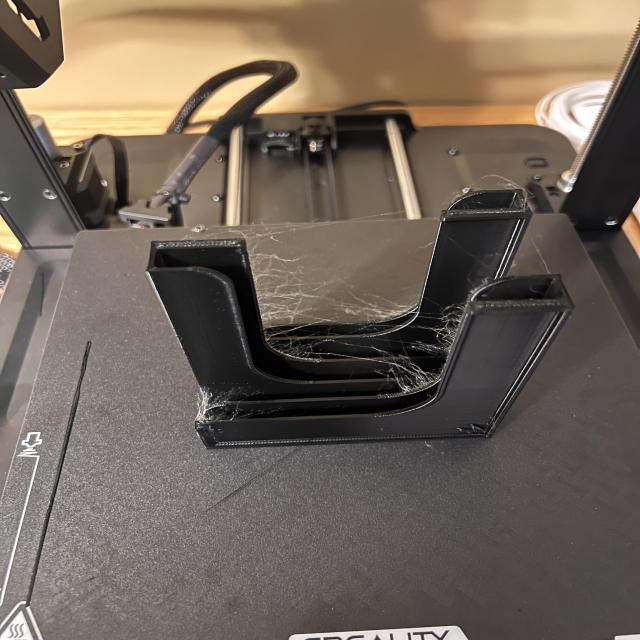Stringing: (184, 231, 466, 393), (199, 387, 233, 422)
